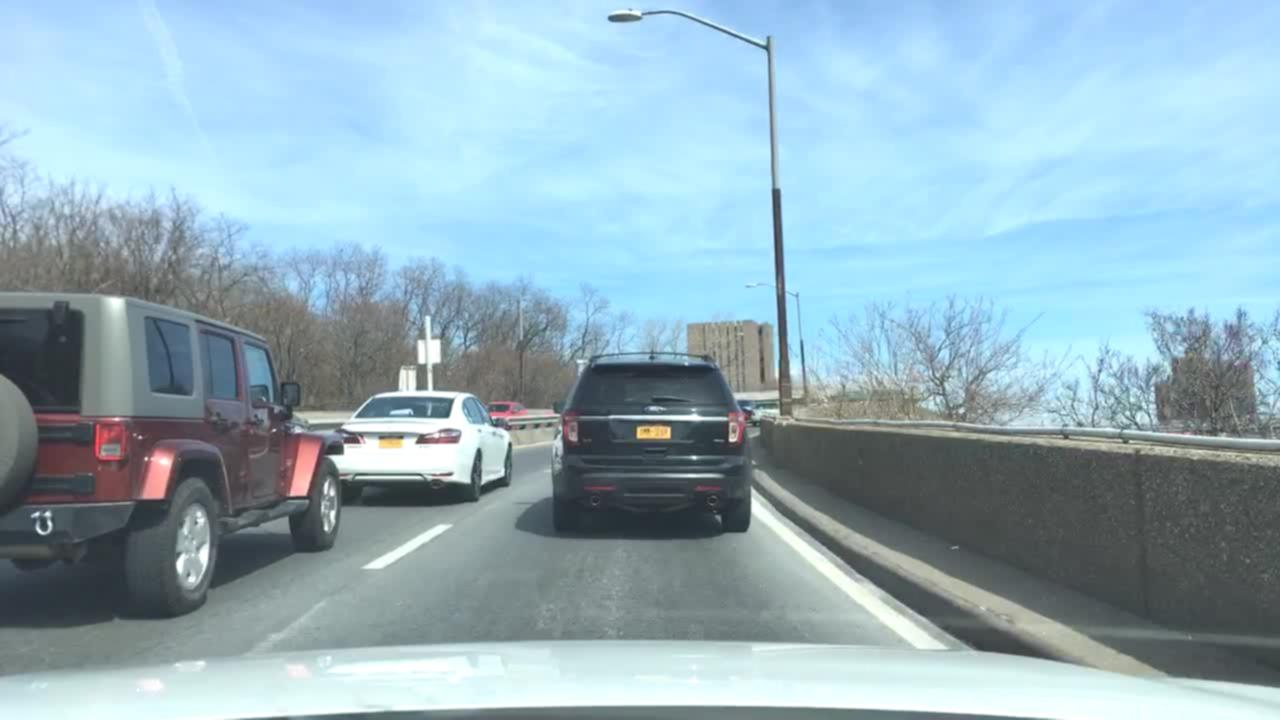ford: (642, 402, 669, 417)
